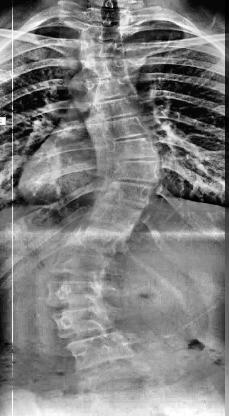Vertebrae: (65, 332, 136, 374), (50, 302, 118, 340), (63, 218, 120, 258), (45, 276, 107, 312), (96, 156, 162, 186), (48, 250, 114, 280), (93, 136, 161, 164), (92, 180, 156, 209), (90, 116, 152, 144), (85, 202, 143, 231), (80, 74, 134, 104), (85, 95, 139, 124), (76, 58, 130, 86), (78, 18, 130, 44), (76, 36, 128, 62)
